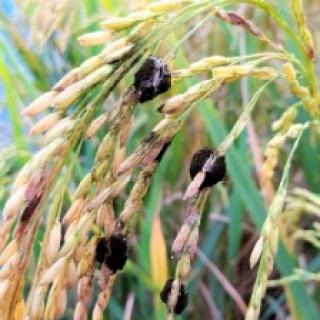Gosong-Palsu: (134, 54, 169, 103), (190, 147, 224, 189), (160, 277, 186, 319), (96, 233, 124, 271)
